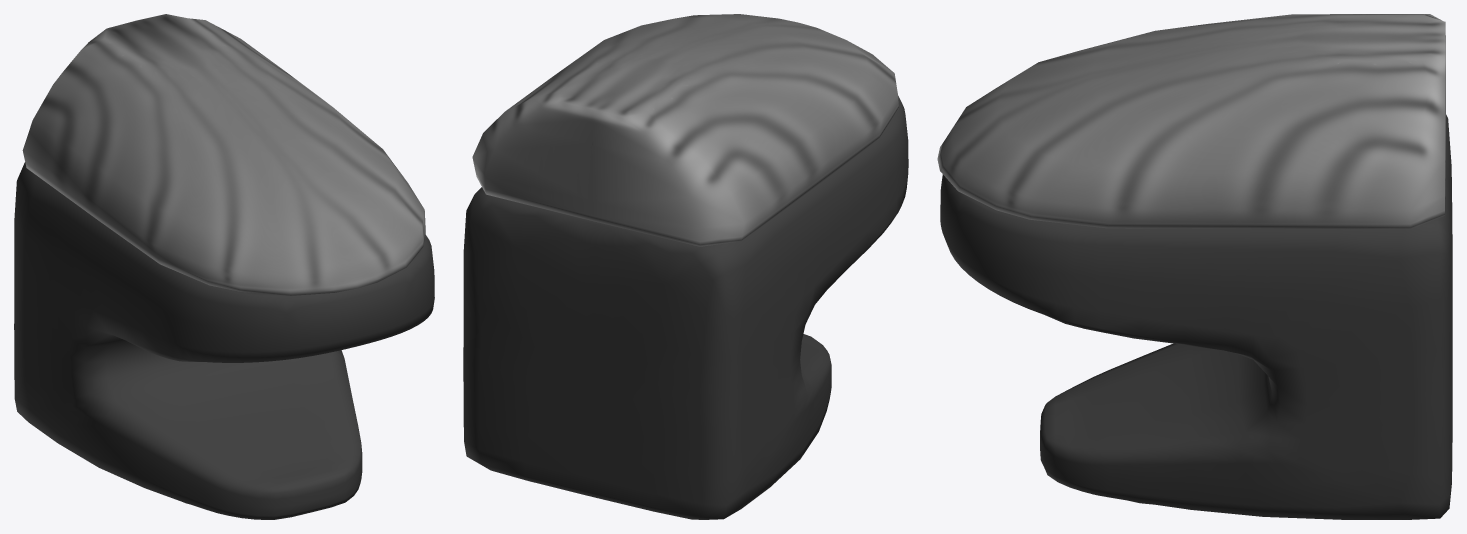
File: tazza.fbx
3 renders of one model, left to right at view 1: azimuth 30°, elevation 25°; view 2: azimuth 150°, elevation 25°; view 3: azimuth 270°, elevation 25°, orthographic. The views are drawn at different scales.
Parts seen in each view (by area): view 1: TAZZA HP.001, COPERCHIO_LP; view 2: TAZZA HP.001, COPERCHIO_LP; view 3: TAZZA HP.001, COPERCHIO_LP.
Boxes of the visible parts, box(x1,y1,x2,y2) form: TAZZA HP.001: box(14, 162, 434, 519); COPERCHIO_LP: box(22, 14, 425, 295); TAZZA HP.001: box(463, 95, 908, 519); COPERCHIO_LP: box(472, 14, 898, 246); TAZZA HP.001: box(940, 114, 1452, 519); COPERCHIO_LP: box(937, 14, 1445, 229).
Size of the model in its own units: 1007 by 1373 by 1523.
2 materials, 1 textured.
